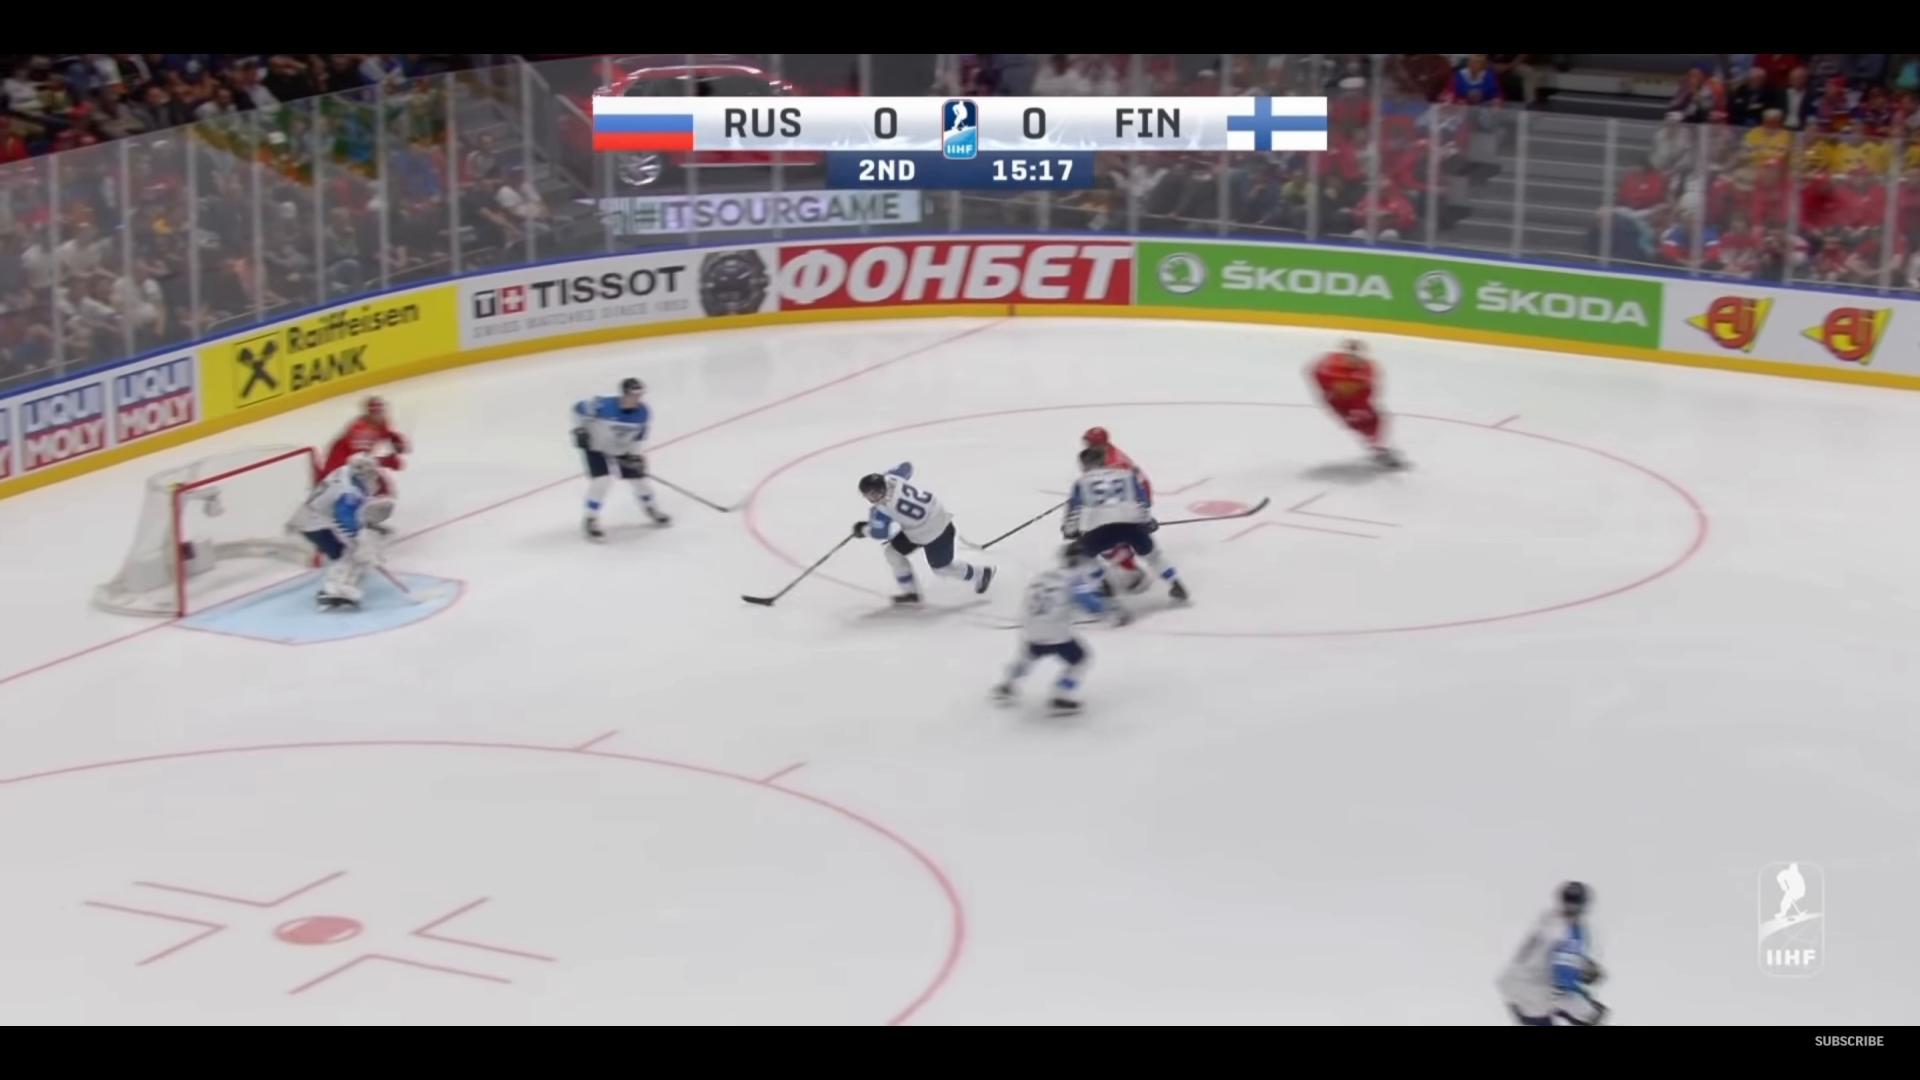puck: (764, 601, 773, 606)
